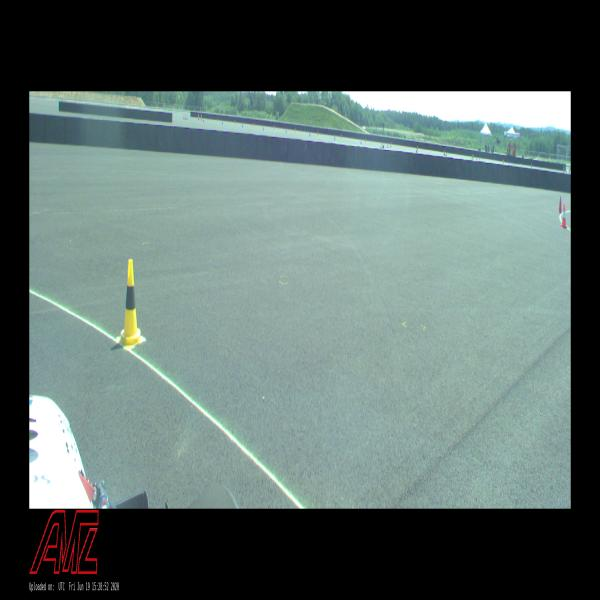orange_cone: (561, 204, 567, 228)
yellow_cone: (117, 259, 144, 348)
